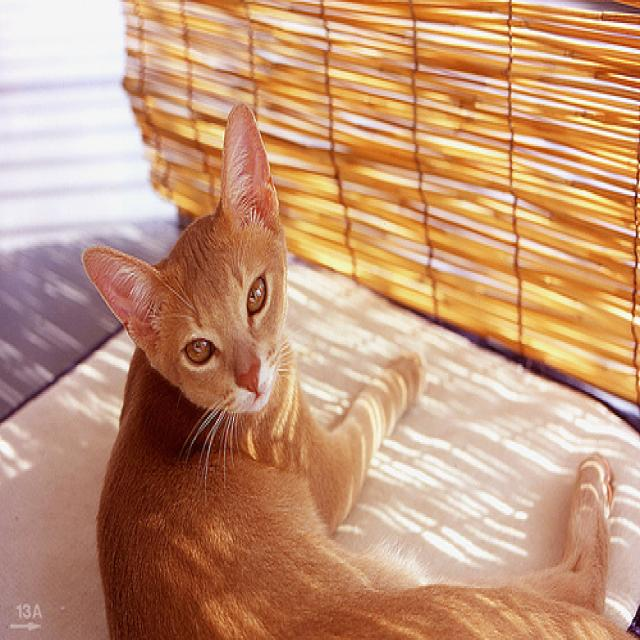left eye: (244, 271, 269, 317)
